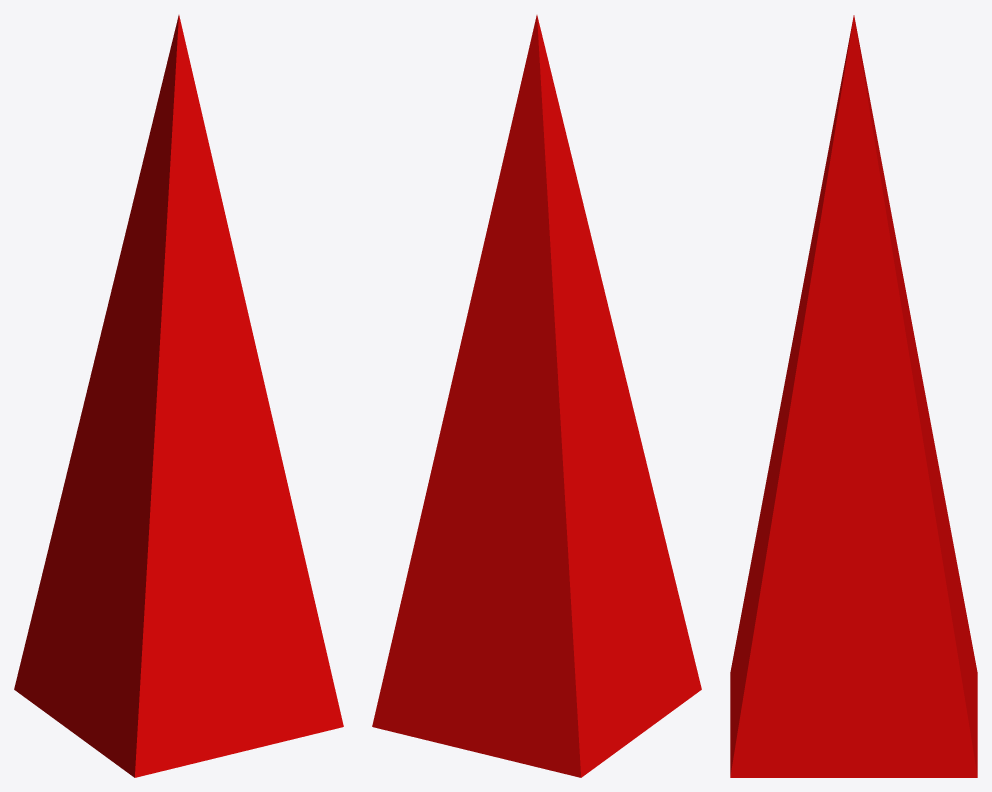
Rendered from indicator_001.fbx.
The picture shows the model from 3 angles, left to right: view 1: azimuth 30°, elevation 25°; view 2: azimuth 150°, elevation 25°; view 3: azimuth 270°, elevation 25°; orthographic projection. The views are drawn at different scales.
Parts seen in each view (by area): view 1: Cube; view 2: Cube; view 3: Cube.
Part boxes in pixels (x1,y1,x2,y2): Cube: [14, 15, 343, 777]; Cube: [372, 15, 701, 777]; Cube: [730, 15, 977, 777].
Bounding box in the file's own units: 200 × 634 × 200.
